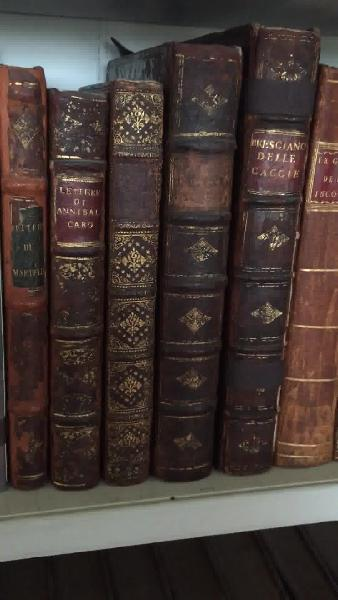Aa6-28: (3, 55, 49, 503)
Aa6-29: (47, 89, 103, 496)
Aa6-30: (104, 73, 157, 493)
Aa6-31: (159, 46, 221, 484)
Aa6-32: (217, 17, 321, 481)
